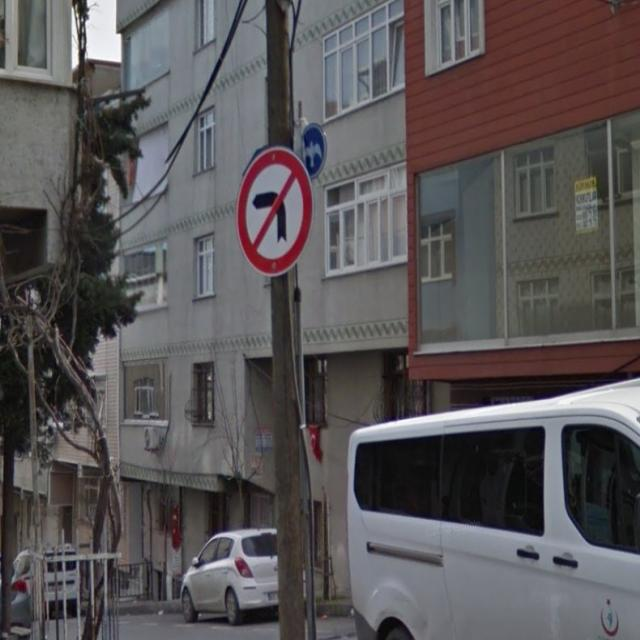soladonulmez: (235, 147, 312, 276)
